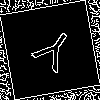Y: (24, 24, 79, 81)
